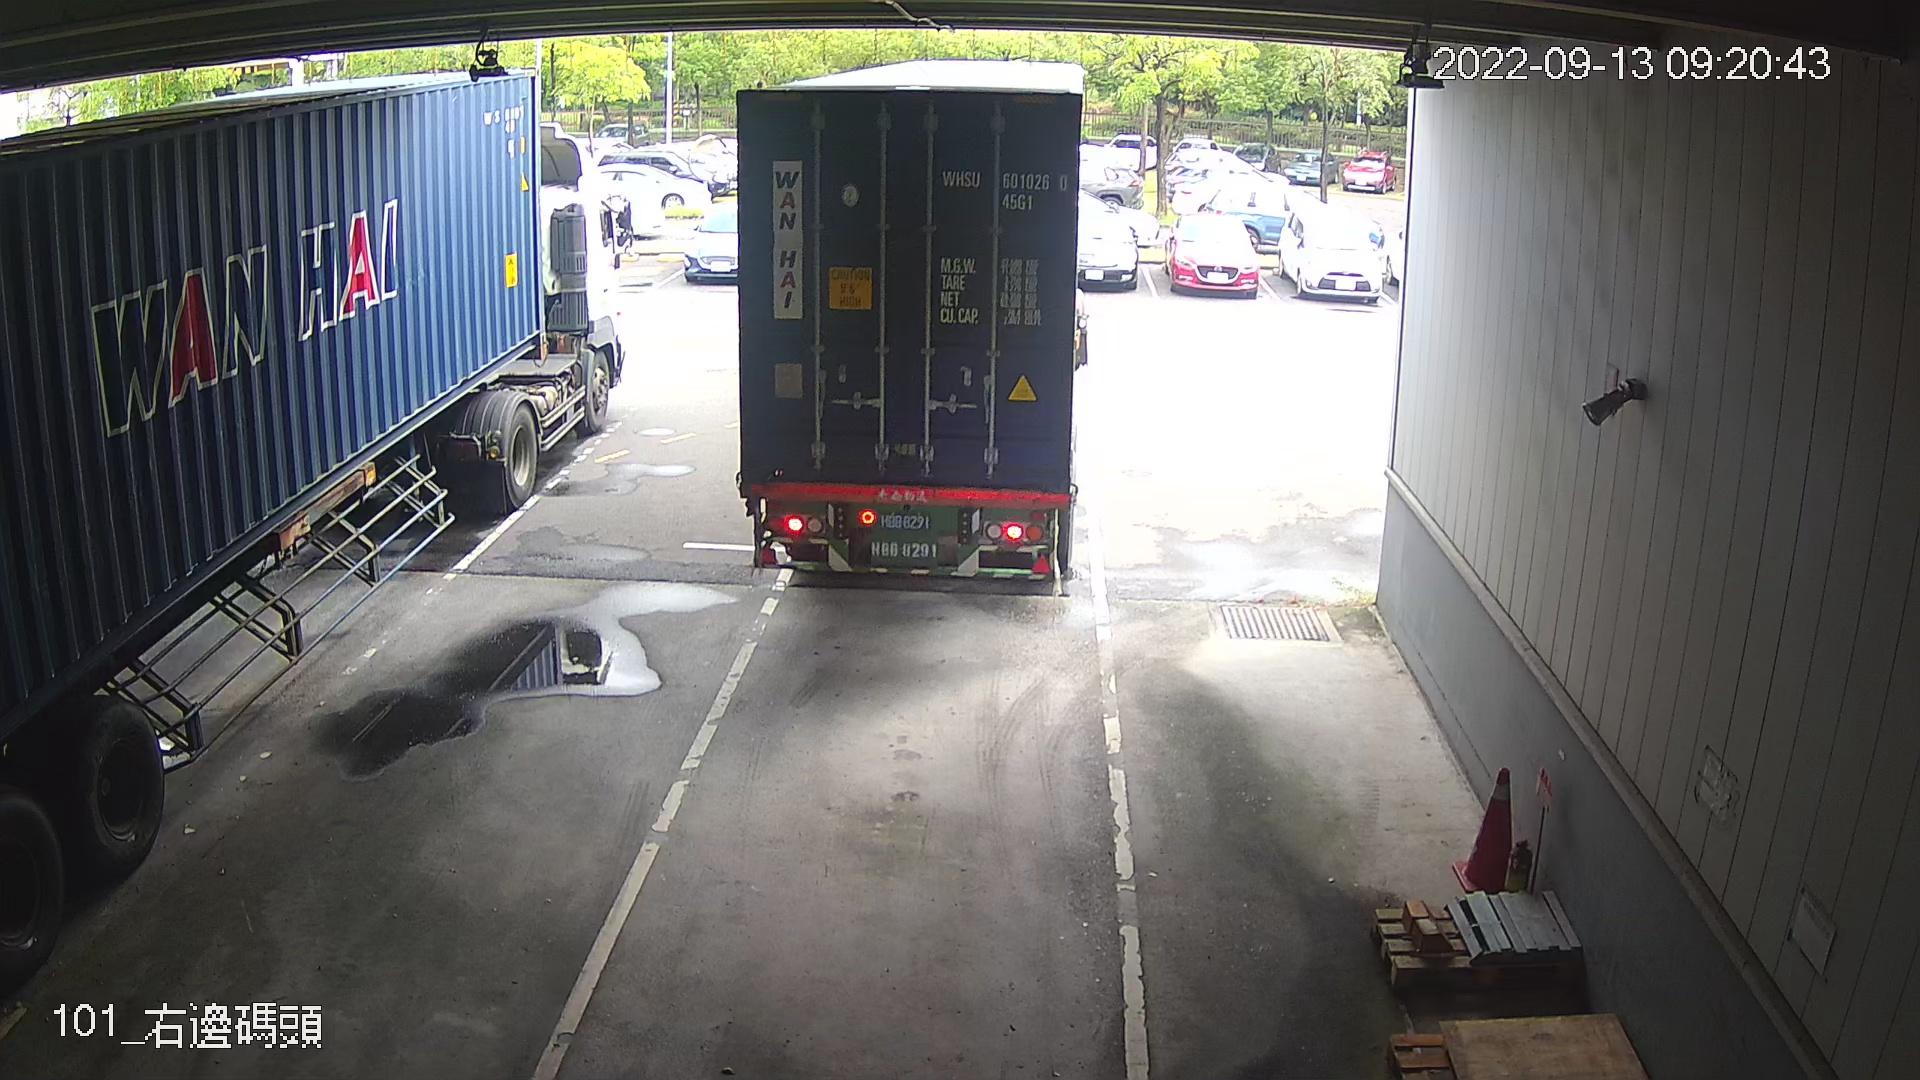container: (938, 158, 1075, 223)
